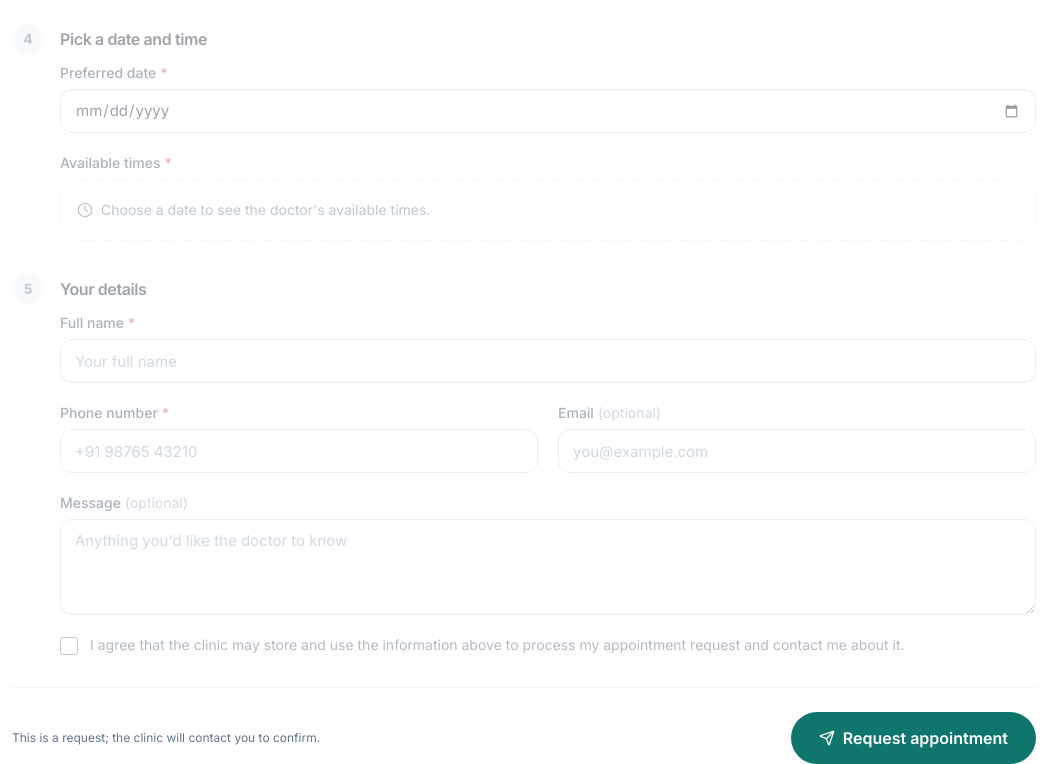
Scenario: AppointmentForm (multi-doctor booking) › shows validation errors and does not submit an empty form
The image size is (1048, 764).
(page scrolled)
Click the button "Request appointment".
click(913, 738)  # box [791,712,1036,763]
(page scrolled)
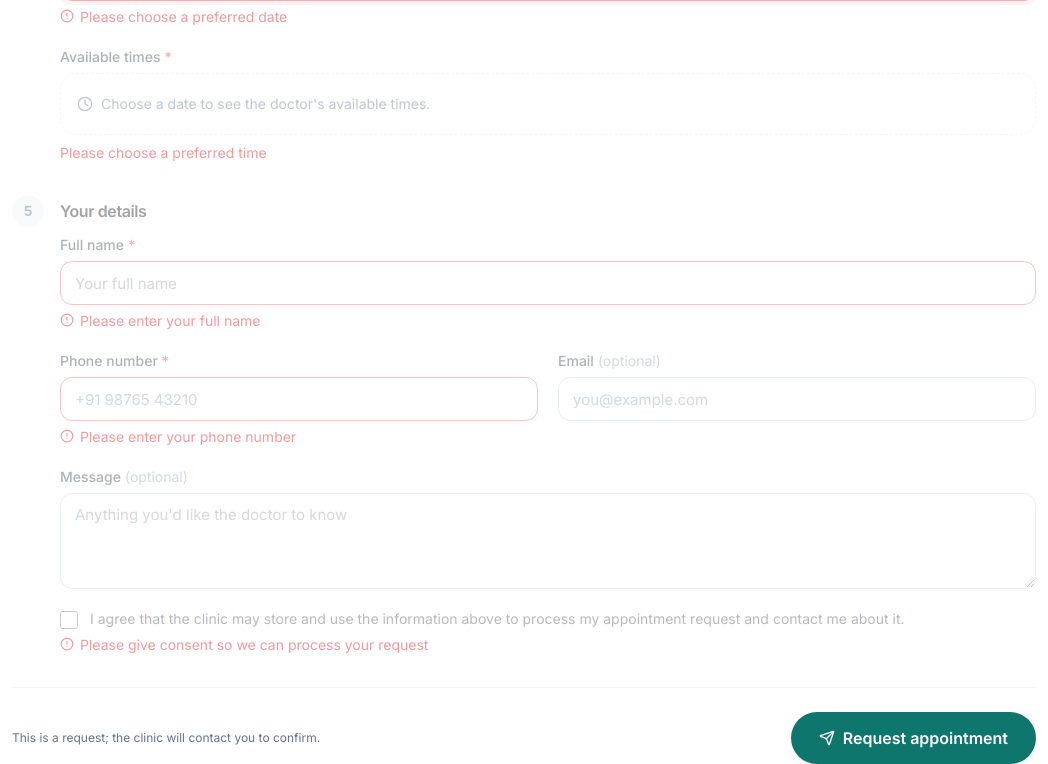
Result: the text "Please enter your full name" is shown at [60,312,260,329]
Result: the text "Please give consent so we can process your request" is shown at [60,636,428,653]
